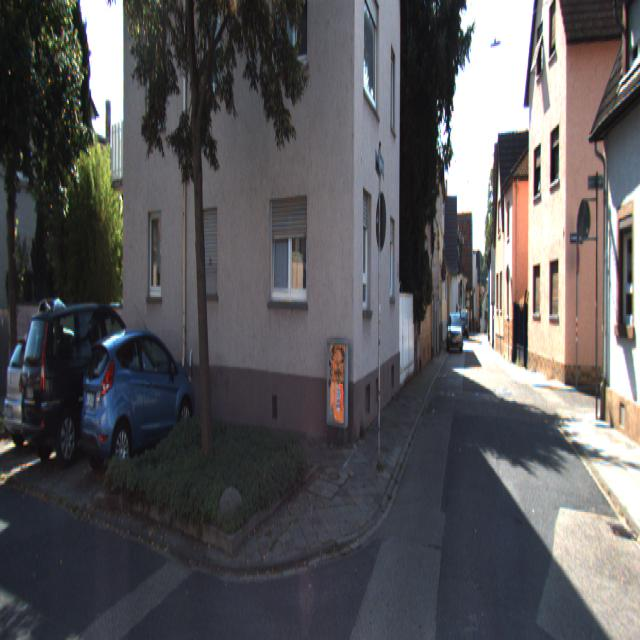Car: (17, 297, 157, 473), (80, 324, 198, 481)
